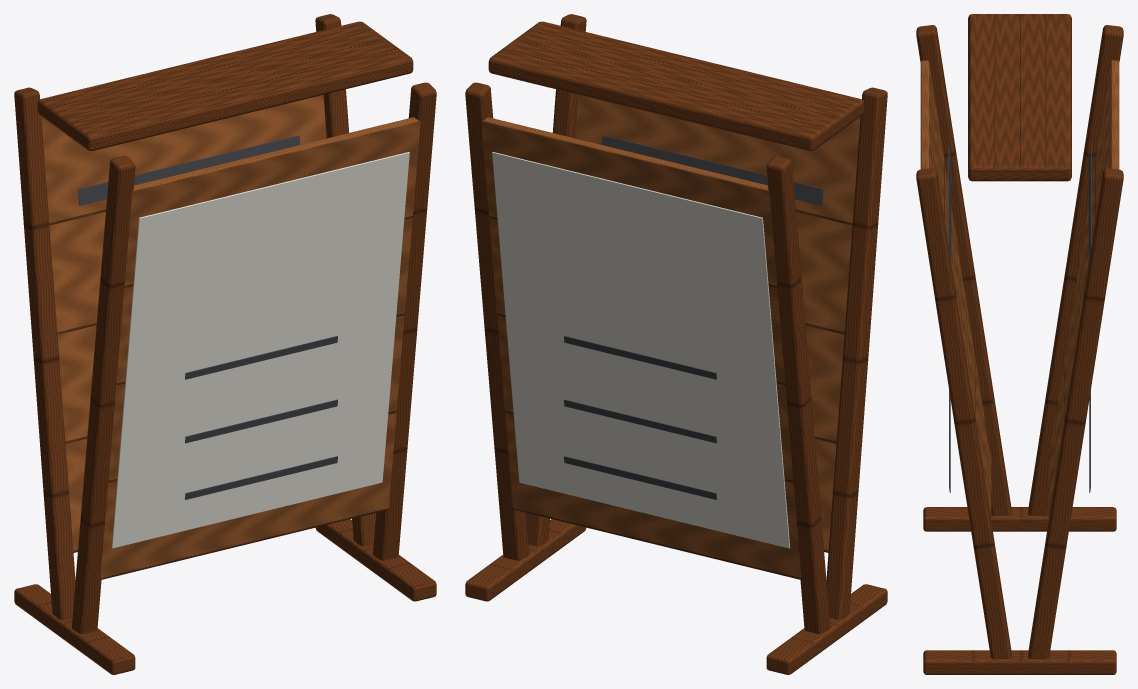
The model's file is printing-press-and-newspaper-office-news-board-6ea47682__37765.glb.
3 views of the same model, side by side, from view 1: azimuth 30°, elevation 25°; view 2: azimuth 150°, elevation 25°; view 3: azimuth 270°, elevation 25° (orthographic). The views are drawn at different scales.
Parts seen in each view (by area): view 1: news-board; view 2: news-board; view 3: news-board.
Boxes of the visible parts, x1=… form: news-board: x1=14, y1=14, x2=436, y2=674; news-board: x1=465, y1=14, x2=887, y2=674; news-board: x1=916, y1=14, x2=1123, y2=674.
Size of the model in its own units: 1.06 by 1.63 by 0.5993.
4 materials, 2 textured.
